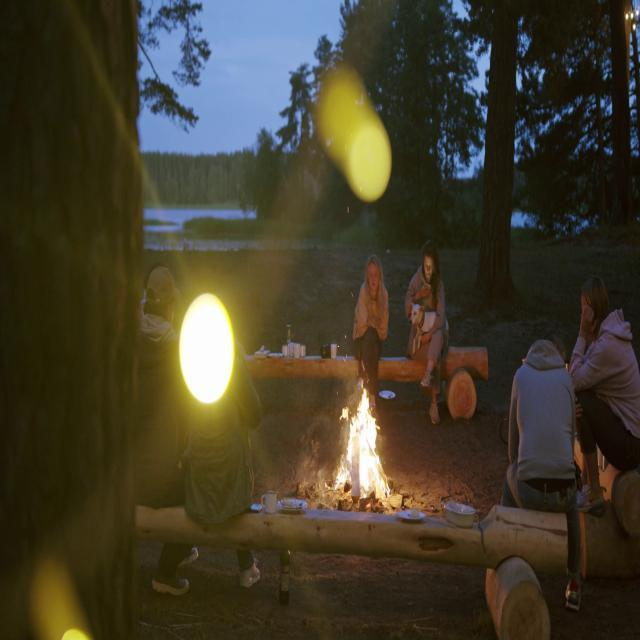Fire: (341, 385, 392, 505)
